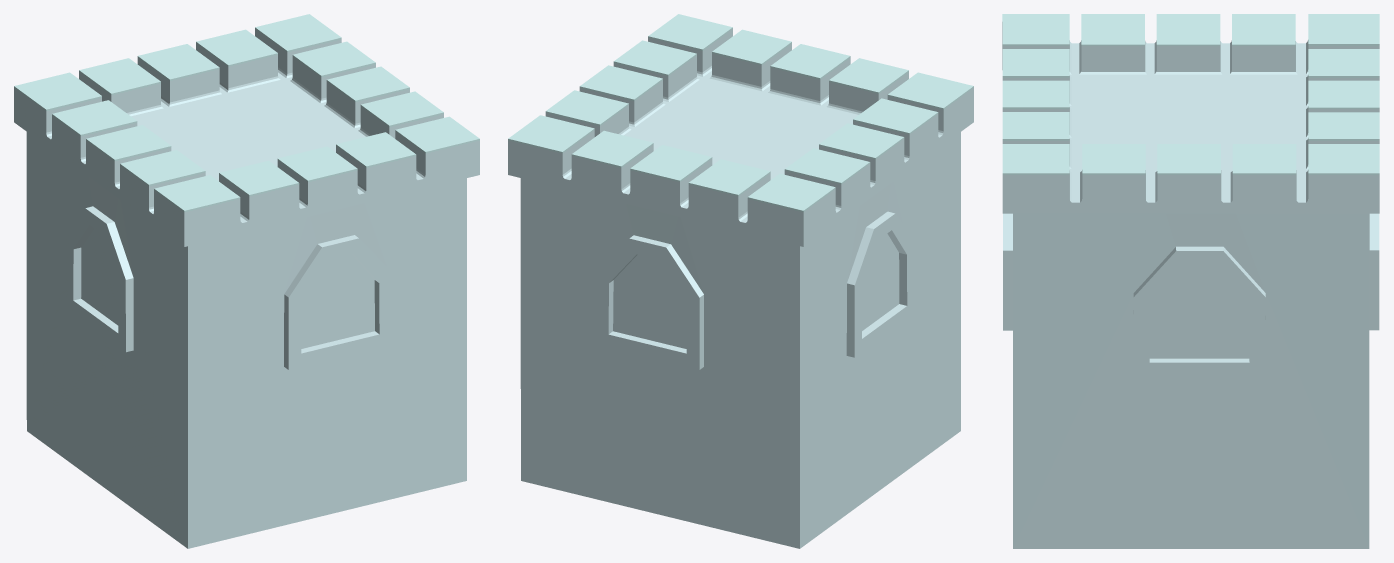
The model's file is SS_Castle_Tower6.fbx.
3 views of the same model, side by side, from view 1: azimuth 30°, elevation 25°; view 2: azimuth 150°, elevation 25°; view 3: azimuth 270°, elevation 25° (orthographic). The views are drawn at different scales.
Visible parts, largest first — view 1: CastleTower6; view 2: CastleTower6; view 3: CastleTower6.
Boxes of the visible parts, x1,y1,x2,y2 form: CastleTower6: (14, 14, 479, 548); CastleTower6: (508, 14, 973, 548); CastleTower6: (1002, 14, 1379, 548).
Bounding box in the file's own units: 9 × 10 × 8.99.
